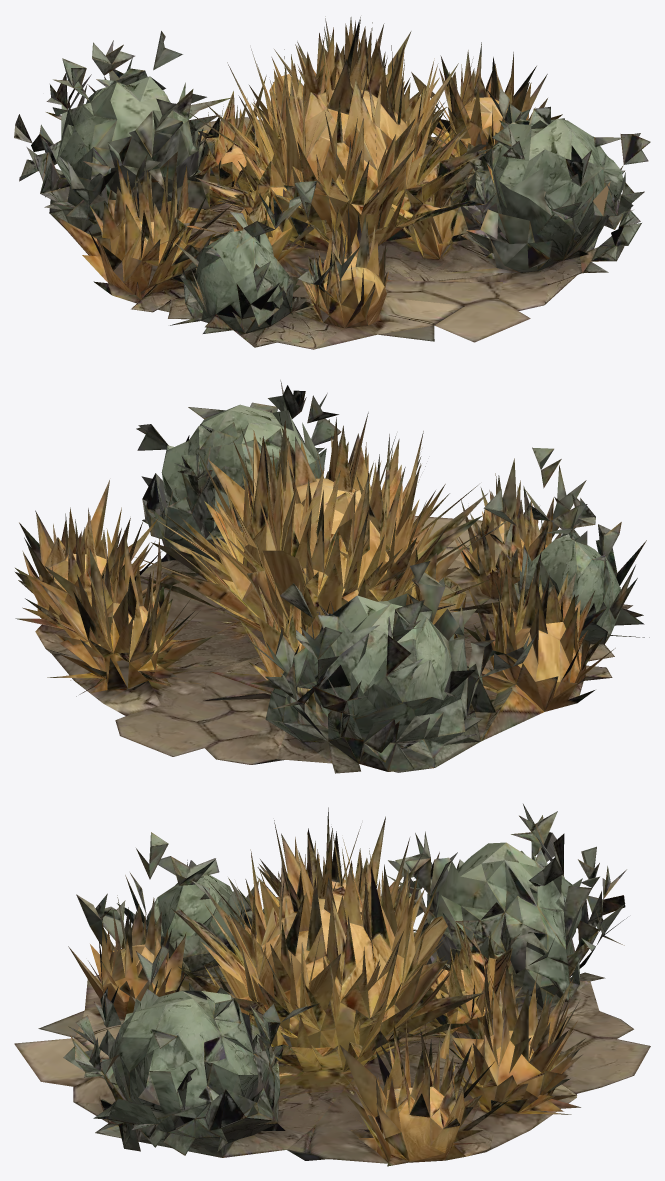
The model's file is scrub.glb.
The picture shows the model from 3 angles, top to bottom: view 1: azimuth 30°, elevation 25°; view 2: azimuth 150°, elevation 25°; view 3: azimuth 270°, elevation 25°; orthographic projection. The views are drawn at different scales.
Size of the model in its own units: 1.68 by 0.6506 by 1.69.
Materials: 1 (1 with a texture image).
